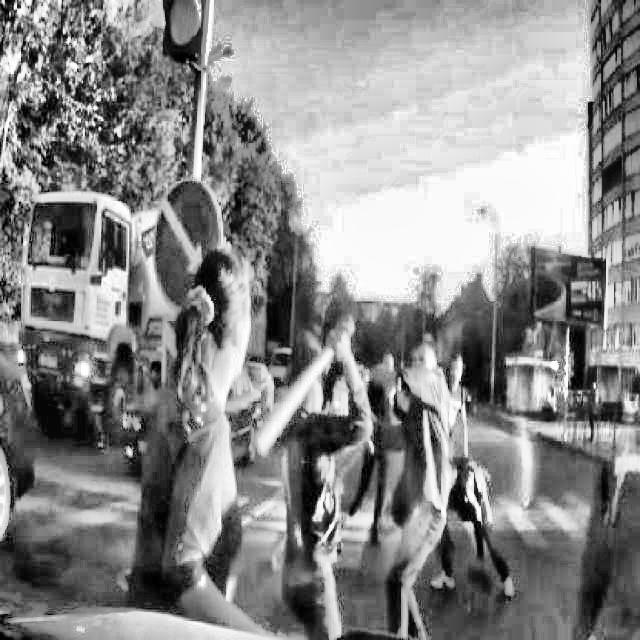robbery: (247, 301, 525, 639)
tongkat pemukul: (243, 291, 373, 461)
